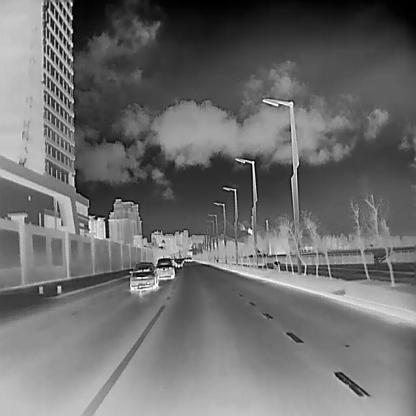car: (128, 261, 158, 290), (156, 256, 175, 279), (174, 257, 183, 266), (188, 257, 192, 262), (184, 257, 188, 261)
